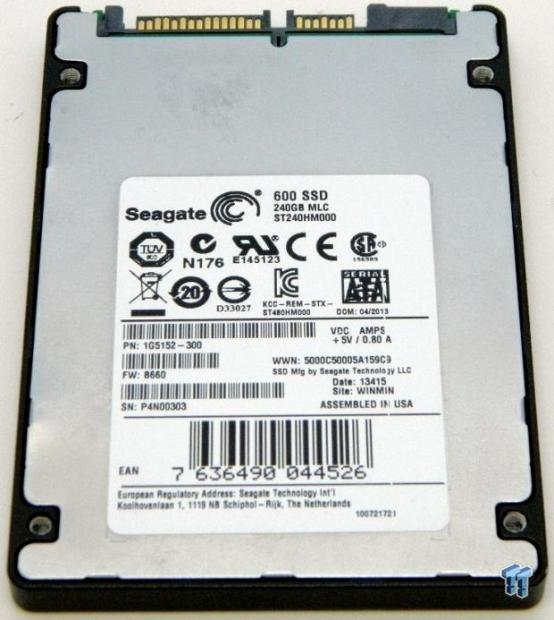seagate-hdd-240gb: (14, 5, 518, 605)
